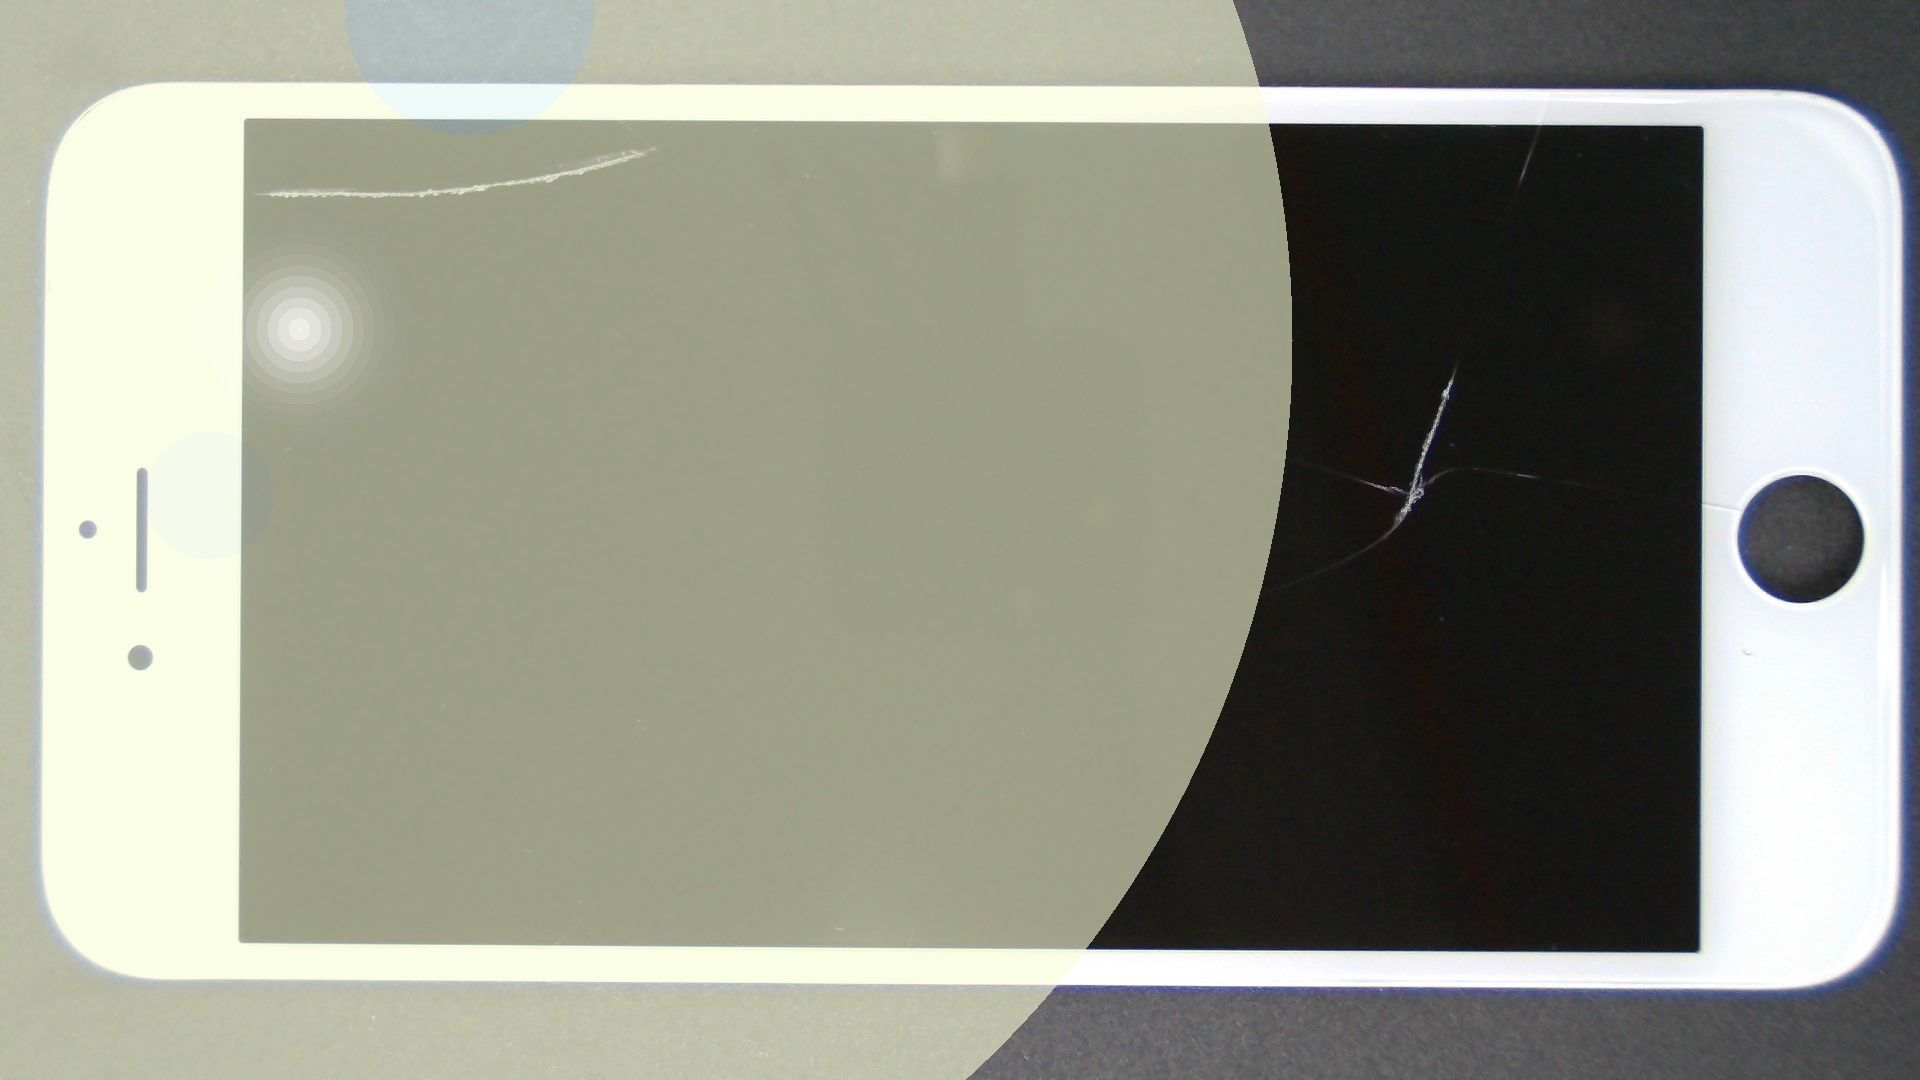oil: (728, 181, 1920, 543), (767, 65, 1920, 195), (327, 73, 977, 222)
